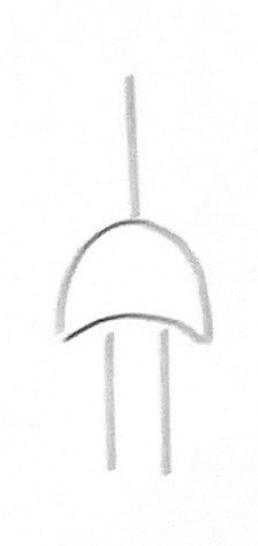OR: (36, 199, 236, 358)
